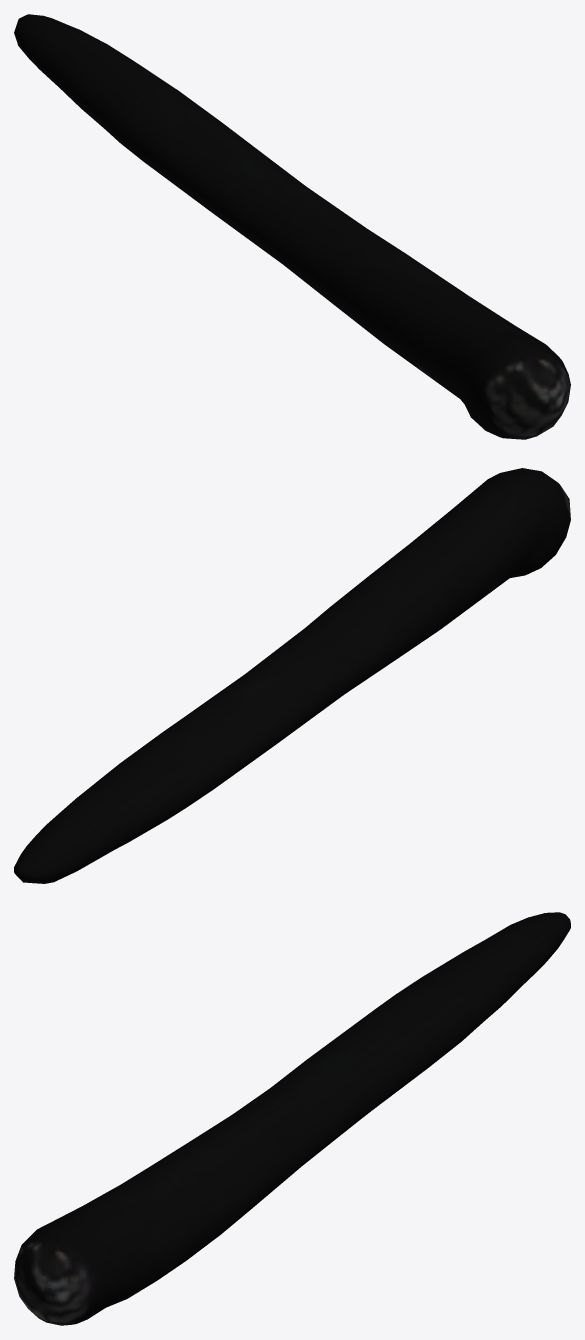
File: xoloCola.obj
3 renders of one model, top to bottom at view 1: azimuth 30°, elevation 25°; view 2: azimuth 150°, elevation 25°; view 3: azimuth 330°, elevation 25°, orthographic. The views are drawn at different scales.
Parts seen in each view (by area): view 1: cola; view 2: cola; view 3: cola.
Part boxes in pixels (x1,y1,x2,y2): cola: (14,14,570,439); cola: (14,468,570,883); cola: (14,912,570,1325).
Bounding box in the file's own units: 0.0751 × 0.0732 × 0.7221.
Materials: 1 (1 with a texture image).
